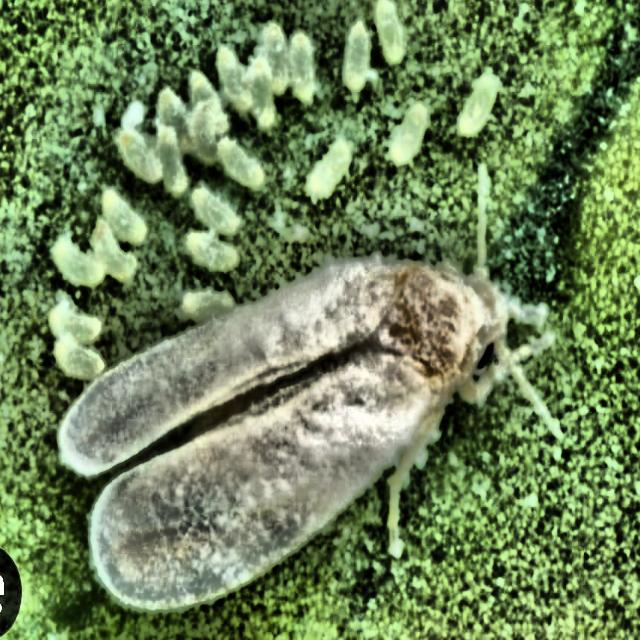egg: (182, 84, 229, 163), (91, 217, 137, 282), (306, 137, 351, 201), (116, 123, 163, 182), (457, 70, 499, 135), (52, 236, 105, 286), (190, 182, 240, 234), (216, 136, 264, 189), (102, 188, 147, 244), (388, 102, 429, 163), (49, 299, 102, 344), (54, 336, 105, 382), (255, 22, 288, 93), (216, 46, 249, 113), (158, 126, 189, 197), (288, 30, 318, 103), (184, 230, 237, 271), (246, 56, 275, 129), (343, 19, 370, 91), (374, 0, 404, 63), (180, 288, 235, 322), (155, 87, 187, 134), (189, 70, 221, 107)
whitefly: (58, 257, 508, 610)
